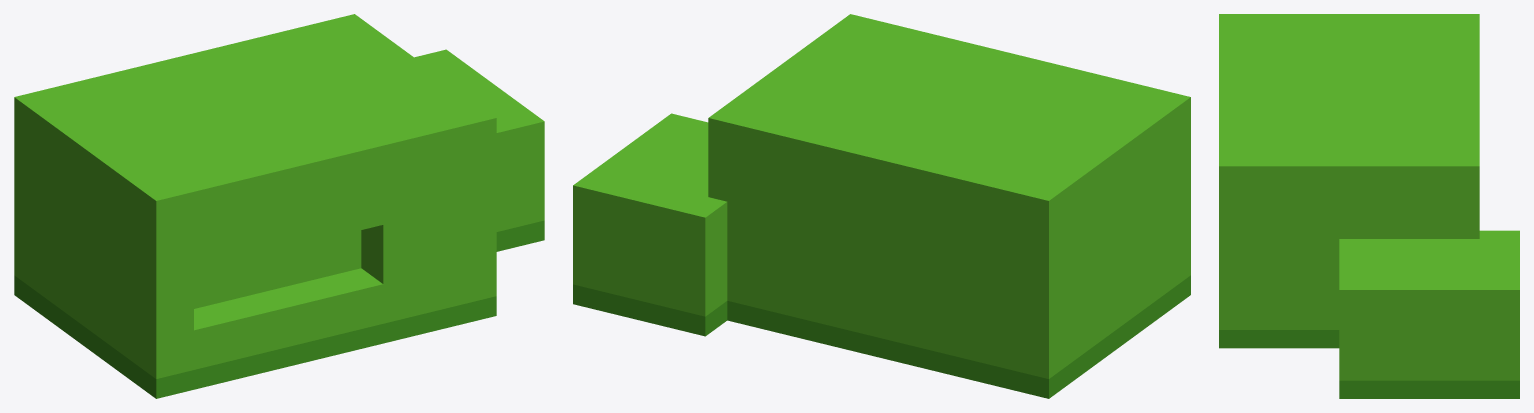
File: deco_bush_block_b.glb
The picture shows the model from 3 angles, left to right: view 1: azimuth 30°, elevation 25°; view 2: azimuth 150°, elevation 25°; view 3: azimuth 270°, elevation 25°; orthographic projection. The views are drawn at different scales.
Visible parts, largest first — view 1: model_0; view 2: model_0; view 3: model_0.
Part boxes in pixels (box(x1,y1,x2,y2)): model_0: box(14, 14, 544, 398); model_0: box(573, 14, 1190, 398); model_0: box(1219, 14, 1519, 398).
Bounding box in the file's own units: 0.96 × 0.4 × 0.6.
